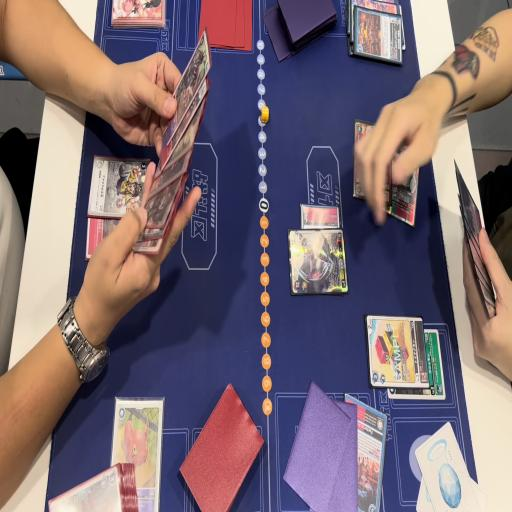card: (112, 395, 167, 512), (344, 391, 388, 512), (365, 315, 428, 388), (286, 228, 348, 302), (387, 327, 447, 401), (84, 156, 152, 220), (43, 459, 122, 512), (351, 114, 393, 204), (384, 142, 421, 230), (352, 12, 404, 60), (84, 217, 128, 267), (301, 198, 340, 244), (352, 0, 398, 19)
